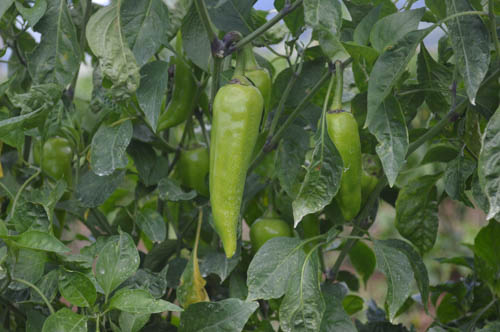ChiliPepper: (207, 86, 260, 260), (323, 112, 366, 218), (156, 38, 198, 137), (42, 138, 72, 233), (242, 69, 273, 121), (177, 146, 208, 191), (250, 219, 289, 248)
